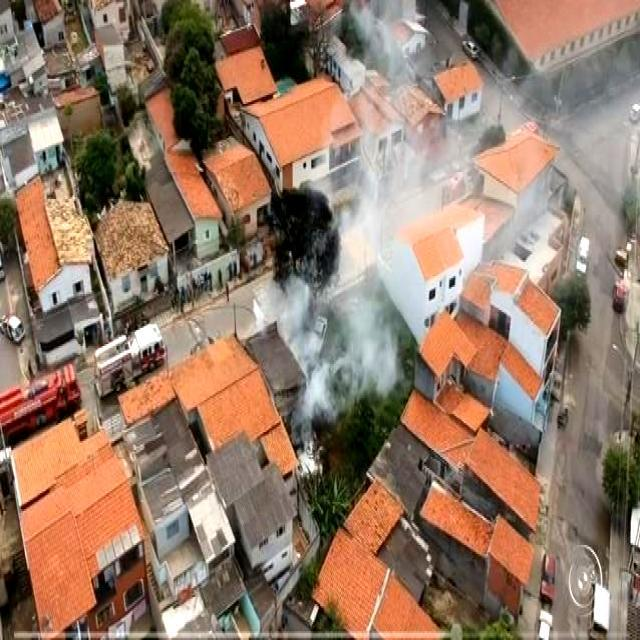Smoke: (294, 0, 632, 414)
